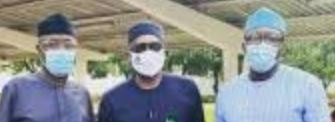with_facemask: (242, 41, 284, 77), (124, 50, 169, 80), (44, 48, 78, 78)
